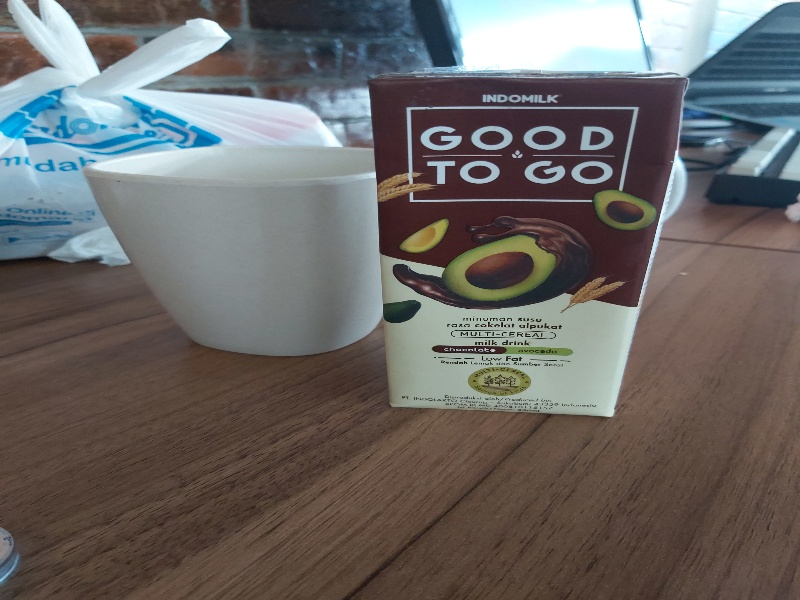cokelat: (369, 64, 687, 419)
